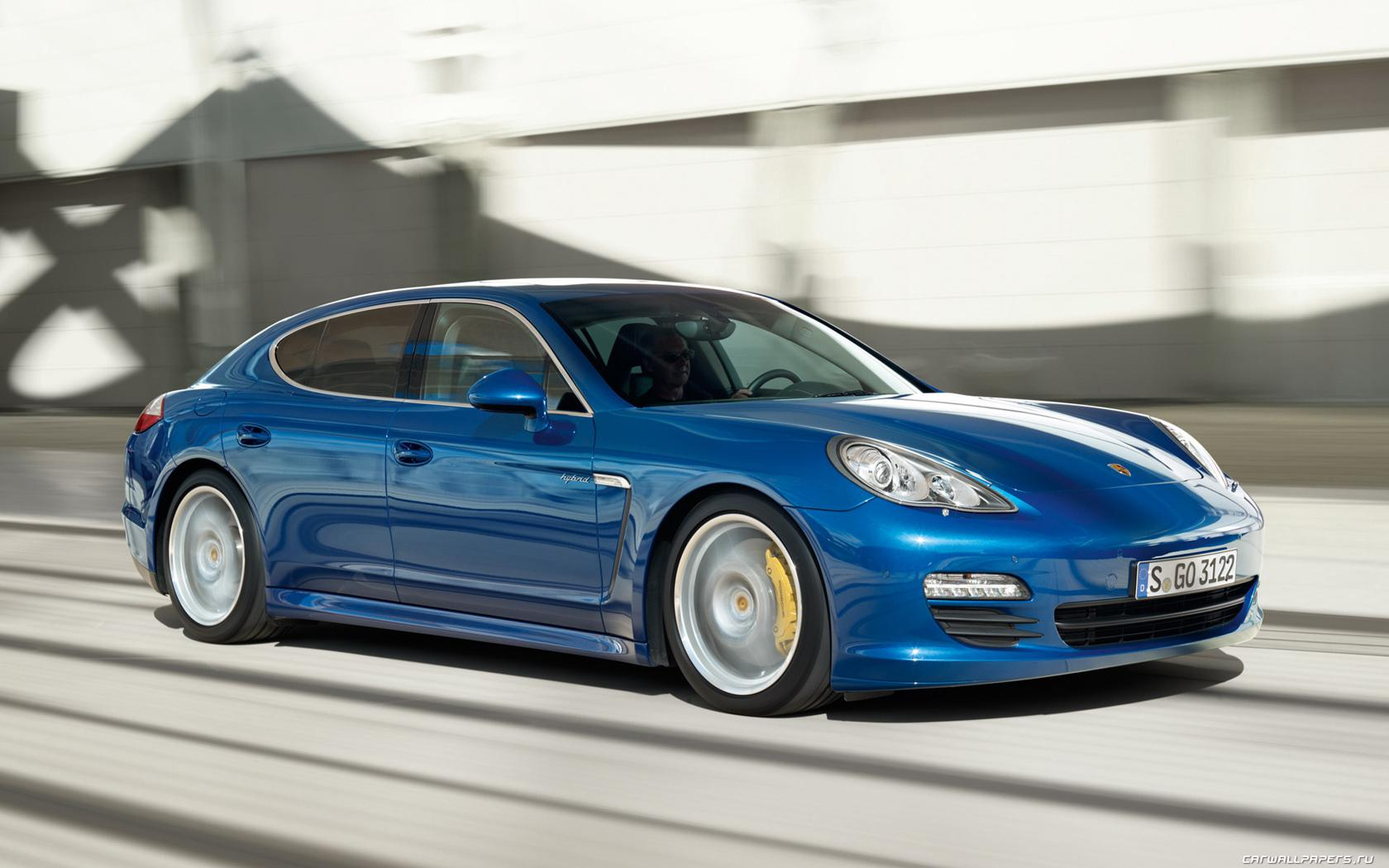Car: (94, 231, 1388, 758)
